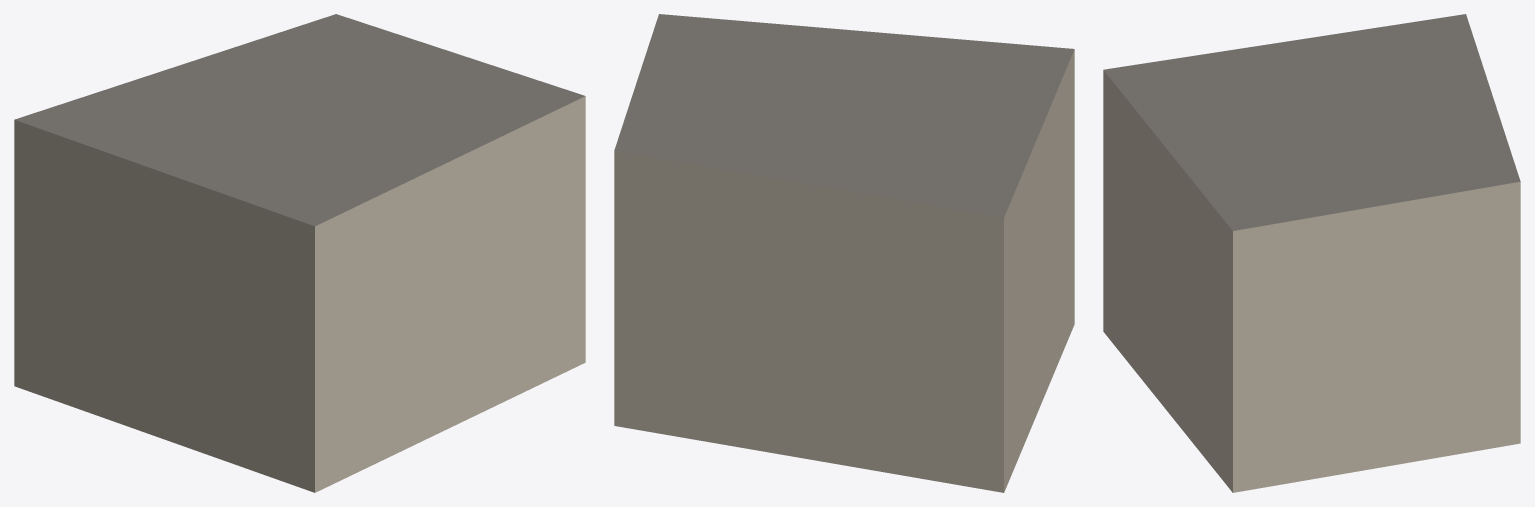
3 renders of one model, left to right at view 1: azimuth 30°, elevation 25°; view 2: azimuth 150°, elevation 25°; view 3: azimuth 270°, elevation 25°, orthographic. The views are drawn at different scales.
Parts seen in each view (by area): view 1: HP-w1156202587; view 2: HP-w1156202587; view 3: HP-w1156202587.
Boxes of the visible parts, left/top/right/bottom form: HP-w1156202587: left=14, top=14, right=585, bottom=492; HP-w1156202587: left=614, top=14, right=1074, bottom=492; HP-w1156202587: left=1103, top=14, right=1520, bottom=492.
Size of the model in its own units: 32.01 by 18 by 26.
